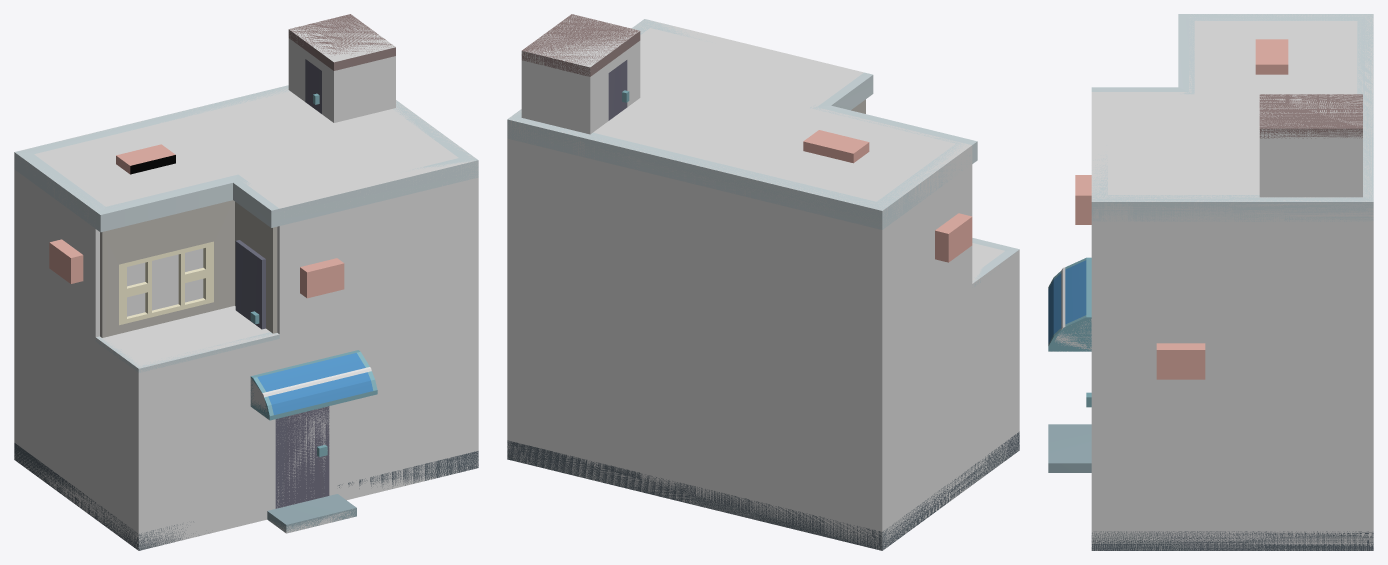
The model's file is Home06_B1_1_01.FBX.
The picture shows the model from 3 angles, left to right: view 1: azimuth 30°, elevation 25°; view 2: azimuth 150°, elevation 25°; view 3: azimuth 270°, elevation 25°; orthographic projection. The views are drawn at different scales.
Visible parts, largest first — view 1: Home06_B1_Damage_1_01, Home06_B1_Live_1_01; view 2: Home06_B1_Damage_1_01, Home06_B1_Live_1_01; view 3: Home06_B1_Damage_1_01, Home06_B1_Live_1_01.
Part boxes in pixels (left/top/right/bottom): Home06_B1_Damage_1_01: left=14, top=15, right=478, bottom=550; Home06_B1_Live_1_01: left=14, top=14, right=478, bottom=550; Home06_B1_Damage_1_01: left=507, top=14, right=1019, bottom=550; Home06_B1_Live_1_01: left=507, top=14, right=1019, bottom=550; Home06_B1_Damage_1_01: left=1049, top=14, right=1373, bottom=550; Home06_B1_Live_1_01: left=1048, top=14, right=1373, bottom=550.
Bounding box in the file's own units: 6.71 × 6.48 × 4.57.
